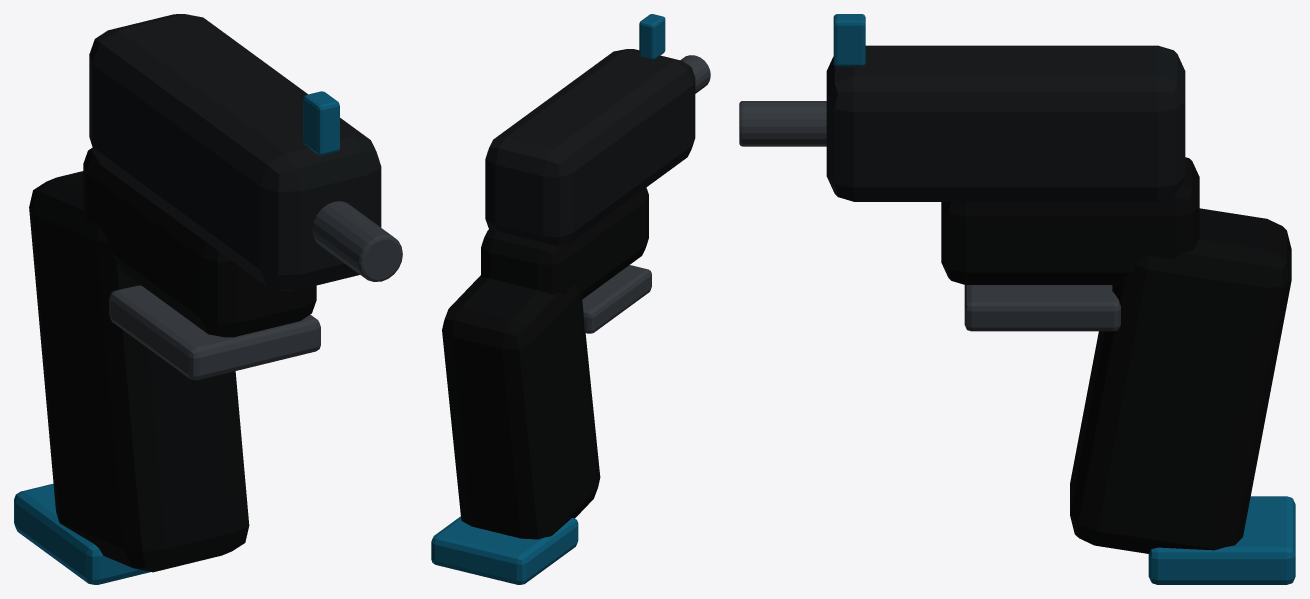
The model's file is glock.obj.
The picture shows the model from 3 angles, left to right: view 1: azimuth 30°, elevation 25°; view 2: azimuth 150°, elevation 25°; view 3: azimuth 270°, elevation 25°; orthographic projection. The views are drawn at different scales.
Parts seen in each view (by area): view 1: Grip_0, Slide_0, Frame_0, Trigger_guard_0, Magazine_base_0, Barrel.003_0, Front_sight.002_0; view 2: Grip_0, Slide_0, Frame_0, Magazine_base_0, Trigger_guard_0, Front_sight.002_0, Barrel.003_0; view 3: Grip_0, Slide_0, Frame_0, Magazine_base_0, Trigger_guard_0, Barrel.003_0, Front_sight.002_0.
Part boxes in pixels (x1,y1,x2,y2): Grip_0: (29,171,249,572); Slide_0: (89,14,381,290); Frame_0: (83,147,316,337); Trigger_guard_0: (109,285,320,380); Magazine_base_0: (14,483,150,584); Barrel.003_0: (312,201,402,281); Front_sight.002_0: (303,91,339,155); Grip_0: (442,275,600,539); Slide_0: (485,49,695,246); Frame_0: (481,187,648,299); Magazine_base_0: (431,516,578,584); Trigger_guard_0: (582,265,651,333); Front_sight.002_0: (639,14,665,59); Barrel.003_0: (680,55,710,93); Grip_0: (1070,208,1291,553); Slide_0: (826,45,1185,201); Frame_0: (941,157,1199,284); Magazine_base_0: (1148,496,1295,584); Trigger_guard_0: (964,285,1120,331); Barrel.003_0: (739,101,826,146); Front_sight.002_0: (833,14,865,66).
Size of the model in its own units: 0.15 by 0.65 by 0.605.
